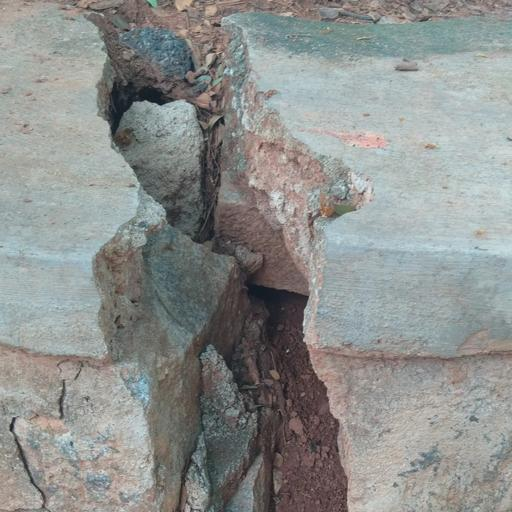major_crack: (72, 0, 364, 512)
